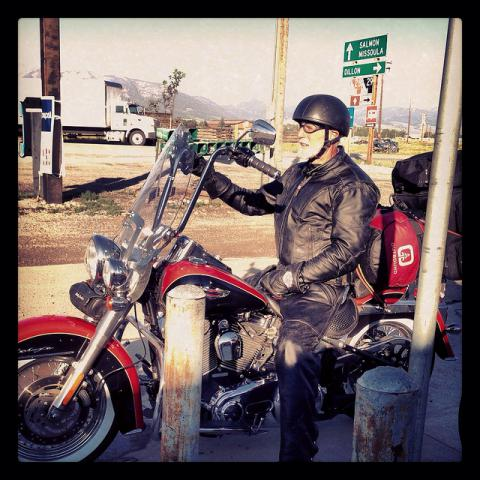car: (374, 138, 398, 148)
motorcycle: (16, 155, 269, 451)
truck: (17, 76, 161, 144)
